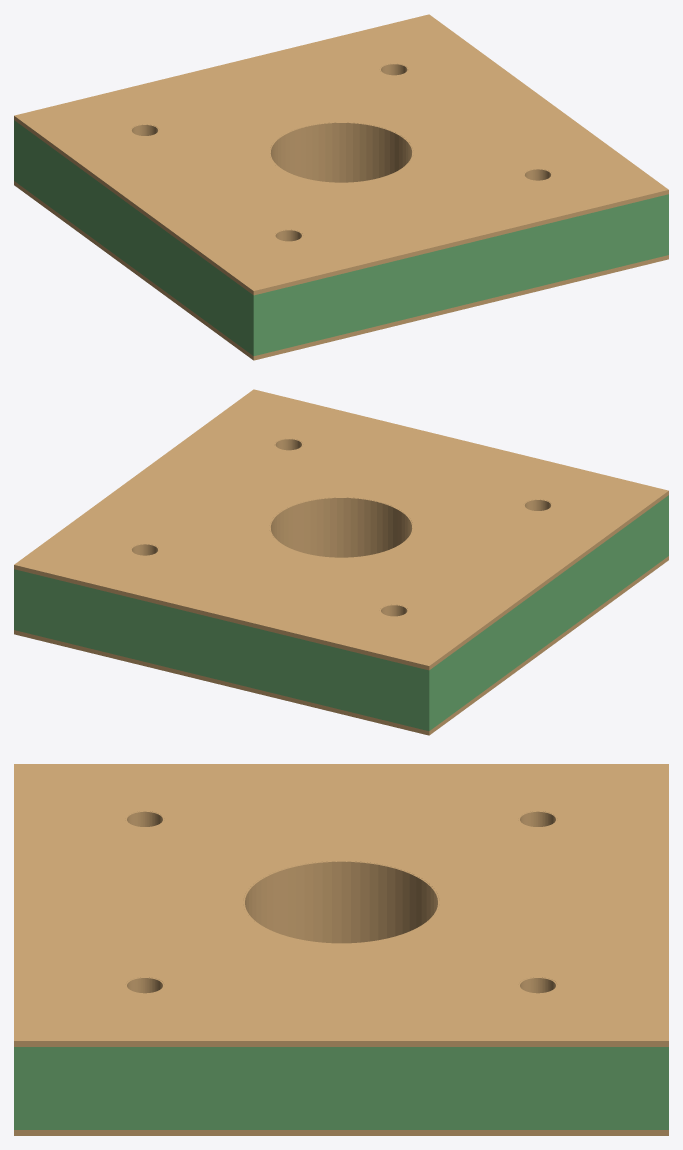
File: board.glb
3 renders of one model, top to bottom at view 1: azimuth 30°, elevation 25°; view 2: azimuth 150°, elevation 25°; view 3: azimuth 270°, elevation 25°, orthographic. The views are drawn at different scales.
Parts seen in each view (by area): view 1: Substrate_Layer_2_Z0, Substrate_Layer_1_Z0, Contact_5, Substrate_Layer_0_Z0; view 2: Substrate_Layer_2_Z0, Substrate_Layer_1_Z0, Contact_5, Substrate_Layer_0_Z0; view 3: Substrate_Layer_2_Z0, Substrate_Layer_1_Z0, Contact_5, Substrate_Layer_0_Z0.
Part boxes in pixels (<box>): Substrate_Layer_2_Z0: <box>14,14,668,295</box>; Substrate_Layer_1_Z0: <box>14,120,668,355</box>; Contact_5: <box>269,122,413,182</box>; Substrate_Layer_0_Z0: <box>14,181,668,360</box>; Substrate_Layer_2_Z0: <box>14,389,668,670</box>; Substrate_Layer_1_Z0: <box>14,495,668,730</box>; Contact_5: <box>269,497,413,557</box>; Substrate_Layer_0_Z0: <box>14,556,668,735</box>; Substrate_Layer_2_Z0: <box>14,764,668,1046</box>; Substrate_Layer_1_Z0: <box>14,1047,668,1129</box>; Contact_5: <box>243,861,439,943</box>; Substrate_Layer_0_Z0: <box>14,1130,668,1135</box>.
Bounding box in the file's own units: 0.01 × 0.0016 × 0.01.
